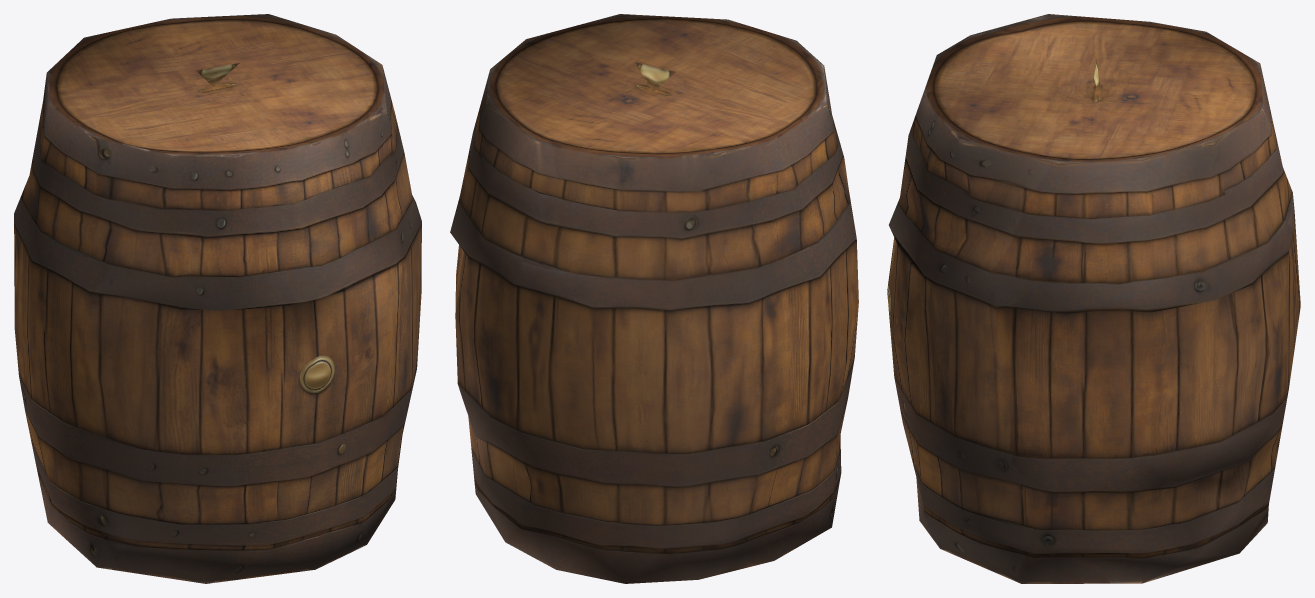
The model's file is barrel_1121031649_texture.fbx.
3 renders of one model, left to right at view 1: azimuth 30°, elevation 25°; view 2: azimuth 150°, elevation 25°; view 3: azimuth 270°, elevation 25°, orthographic.
Parts seen in each view (by area): view 1: Mesh1.0; view 2: Mesh1.0; view 3: Mesh1.0.
Boxes of the visible parts, x1,y1,x2,y2 form: Mesh1.0: [14, 14, 421, 583]; Mesh1.0: [450, 14, 858, 583]; Mesh1.0: [887, 14, 1300, 583].
Bounding box in the file's own units: 163 × 198 × 165.
1 material, 1 textured.
